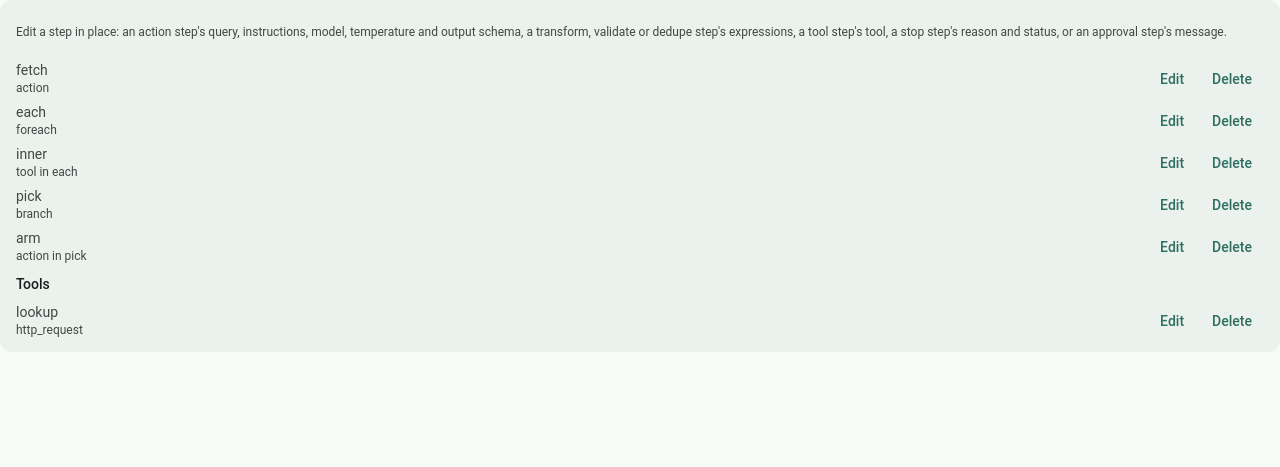
Test case: StepsPanel delete › shows any other refusal as its message
What coordinates should you click on to do the following:
click the button with aria-label "Delete step fetch"
I would click on:
 (1232, 79)
Its box is [1200,61,1264,97].
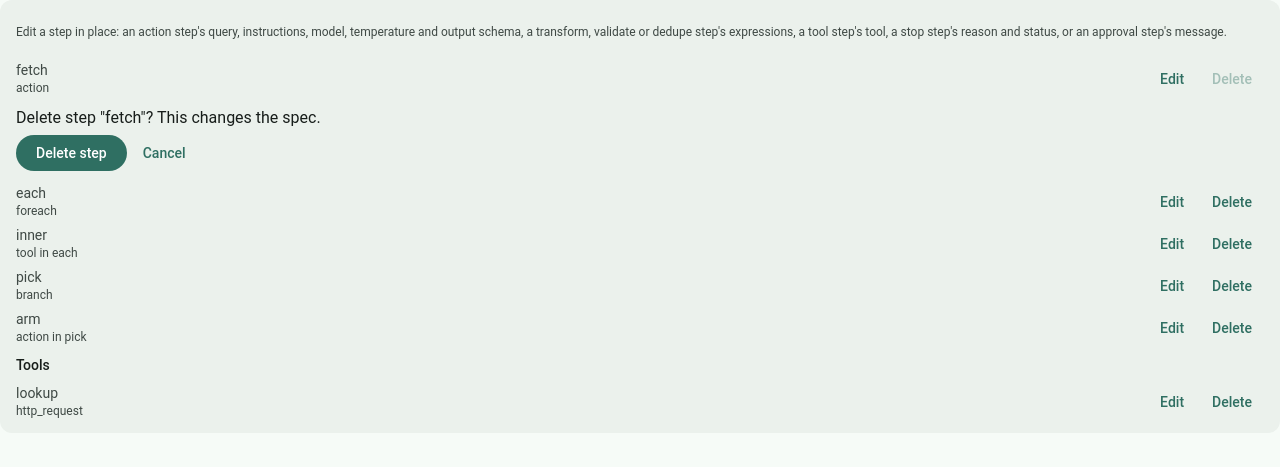
What coordinates should you click on to do the following:
click the button "Delete step"
I would click on:
 (71, 153)
Its box is [16,135,127,171].
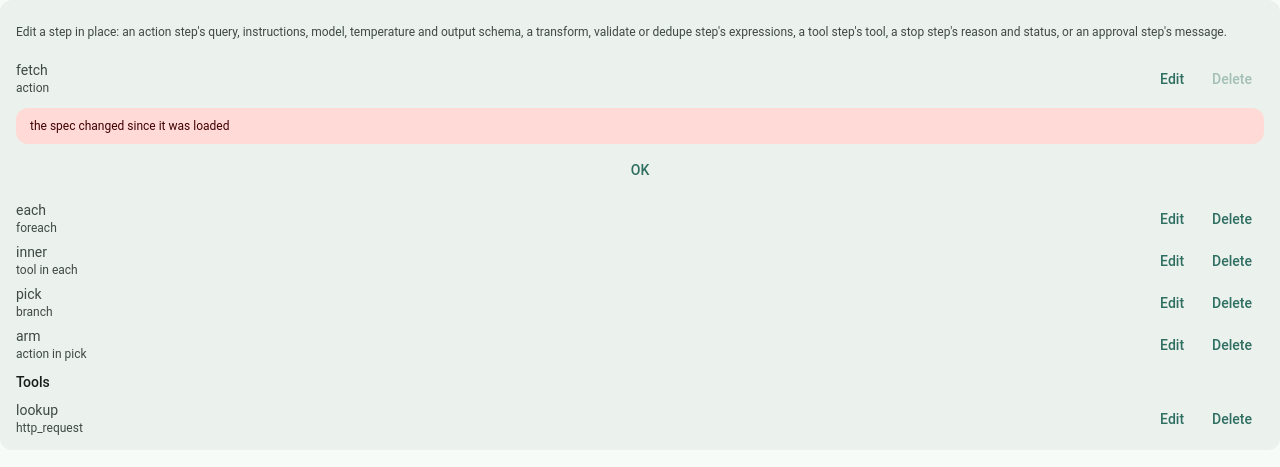
Expected: the message shows "the spec changed", [30,119,229,133]
